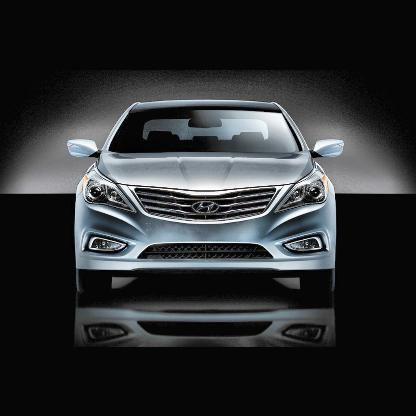Hyundai Azera Sedan 2012: (69, 104, 348, 303)
